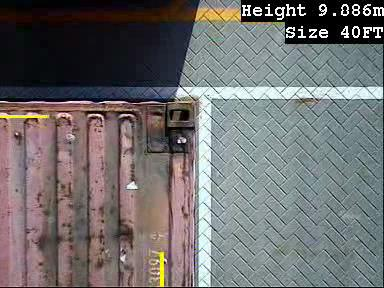groundmarker_2: (105, 9, 165, 43), (104, 155, 164, 189)
